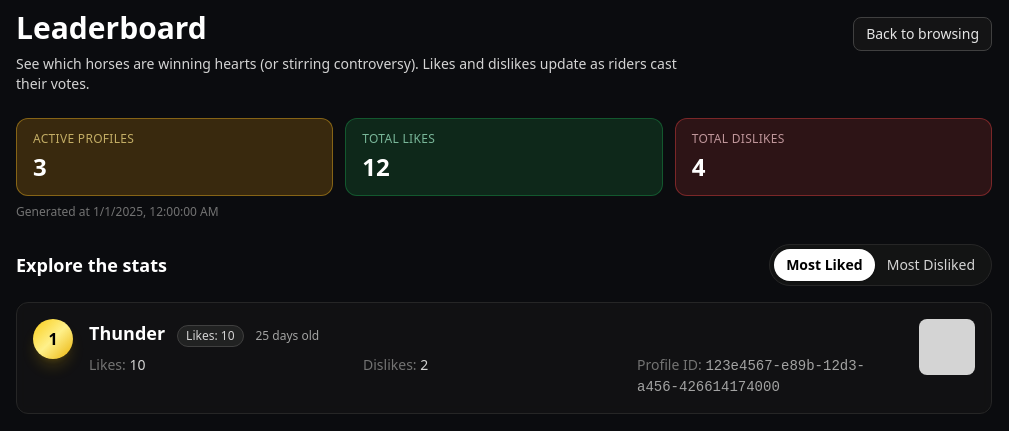
Test case: LeaderboardClient › switches to the dislikes tab when selected
The width and height of the screenshot is (1009, 431).
Click the tab "Most Disliked".
click(931, 265)  # box x1=875 y1=249 x2=987 y2=281
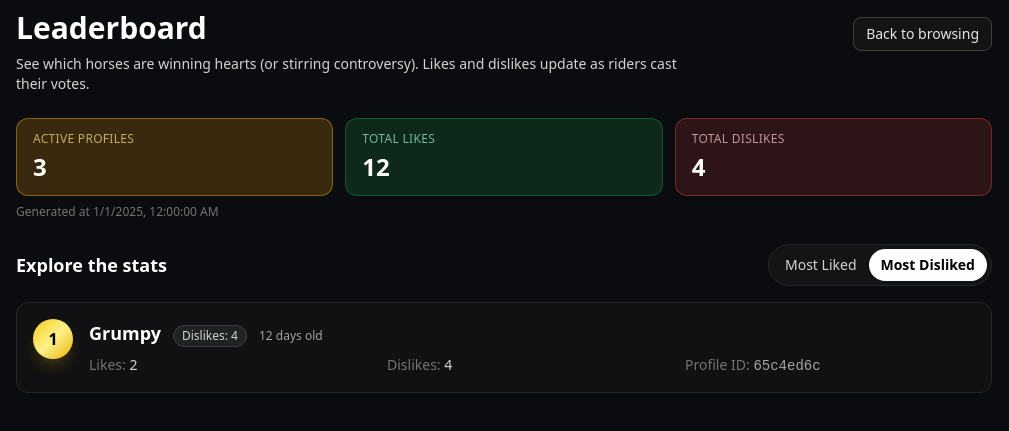
Result: the heading "Grumpy" is shown at x1=89 y1=319 x2=161 y2=347
